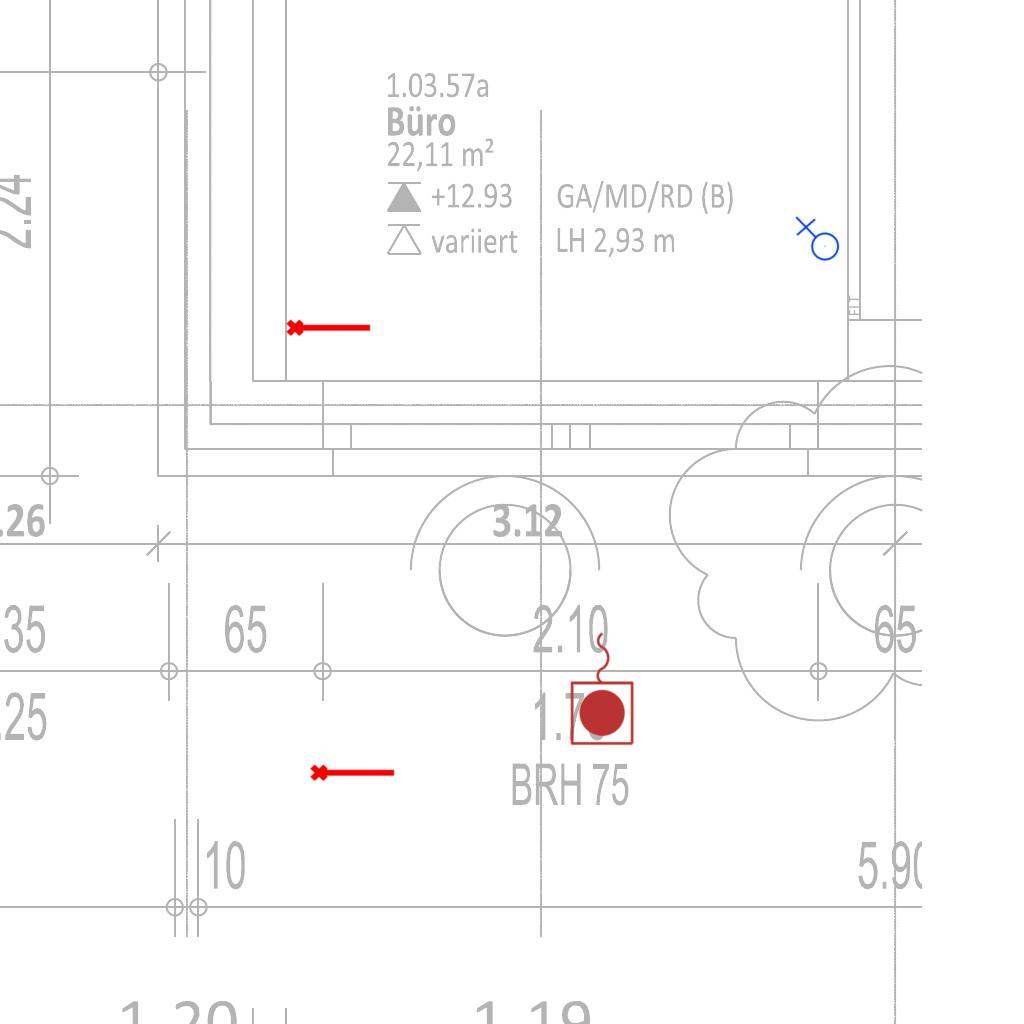ASR_Ansaugoeffnung: (285, 315, 373, 338), (309, 760, 397, 783)
Elektroanschluss_allgemein_230V_Geraeteanschlussdose_230V: (793, 216, 840, 265)
Zugtaster: (567, 627, 639, 749)
